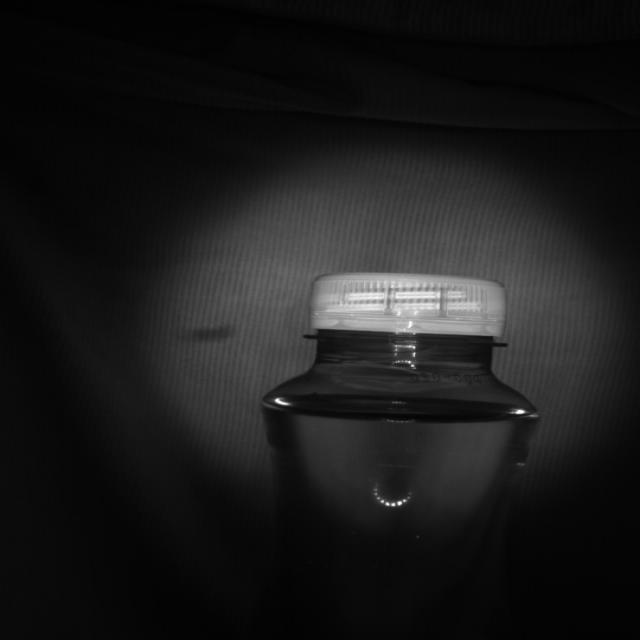Good: (310, 272, 508, 336)
